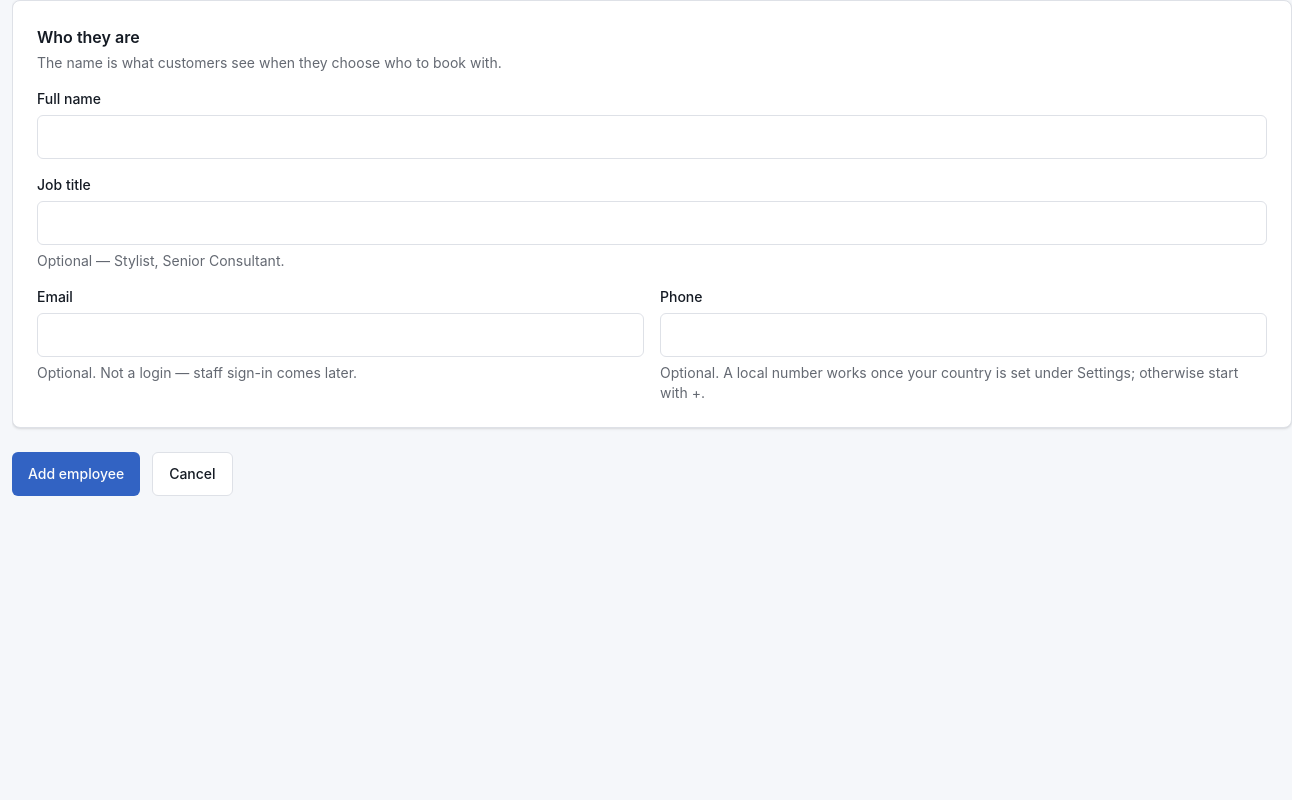
Test: EmployeeForm, refused › lets the owner try again rather than leaving the button spinning
Type "Nino Beridze" into the field labelled "Full name" at (652, 137), box [37,115,1267,159]
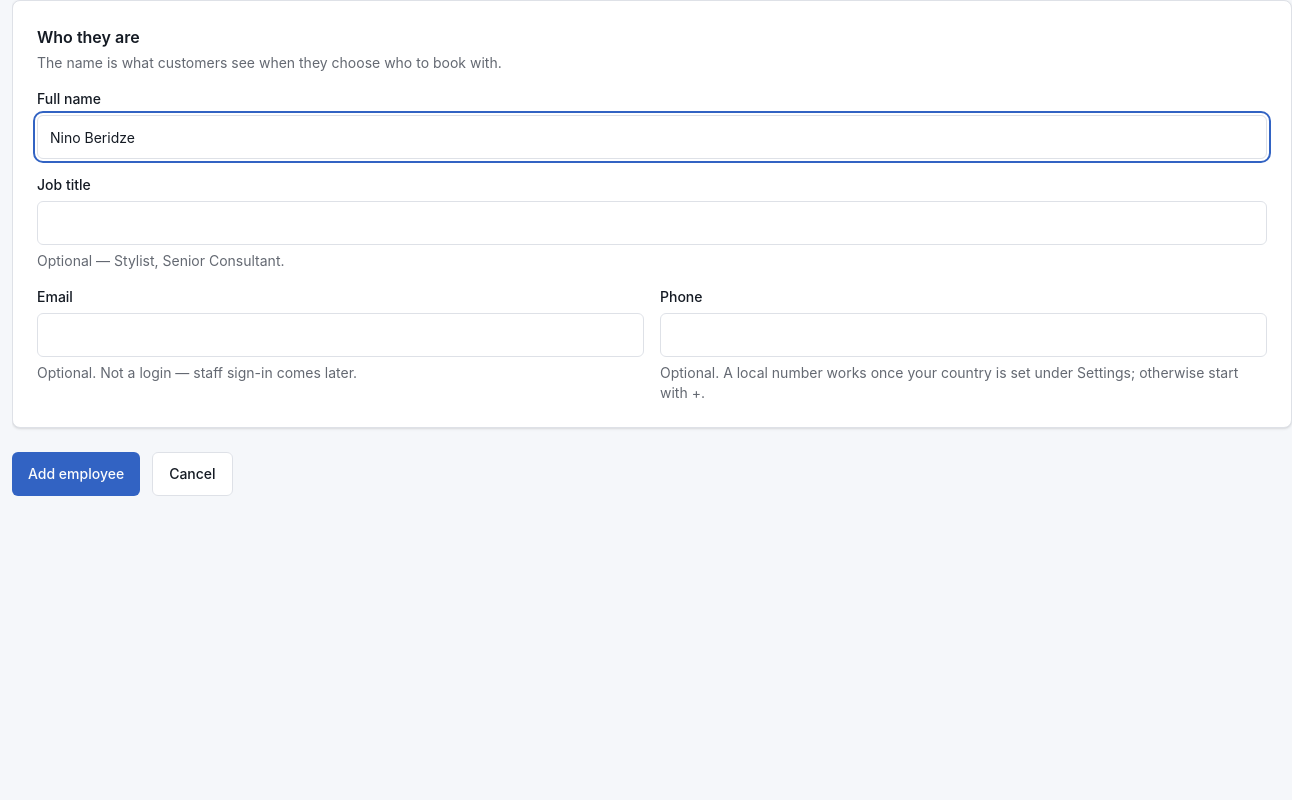
Click the button "Add employee" at (76, 474), box [12,452,140,496]
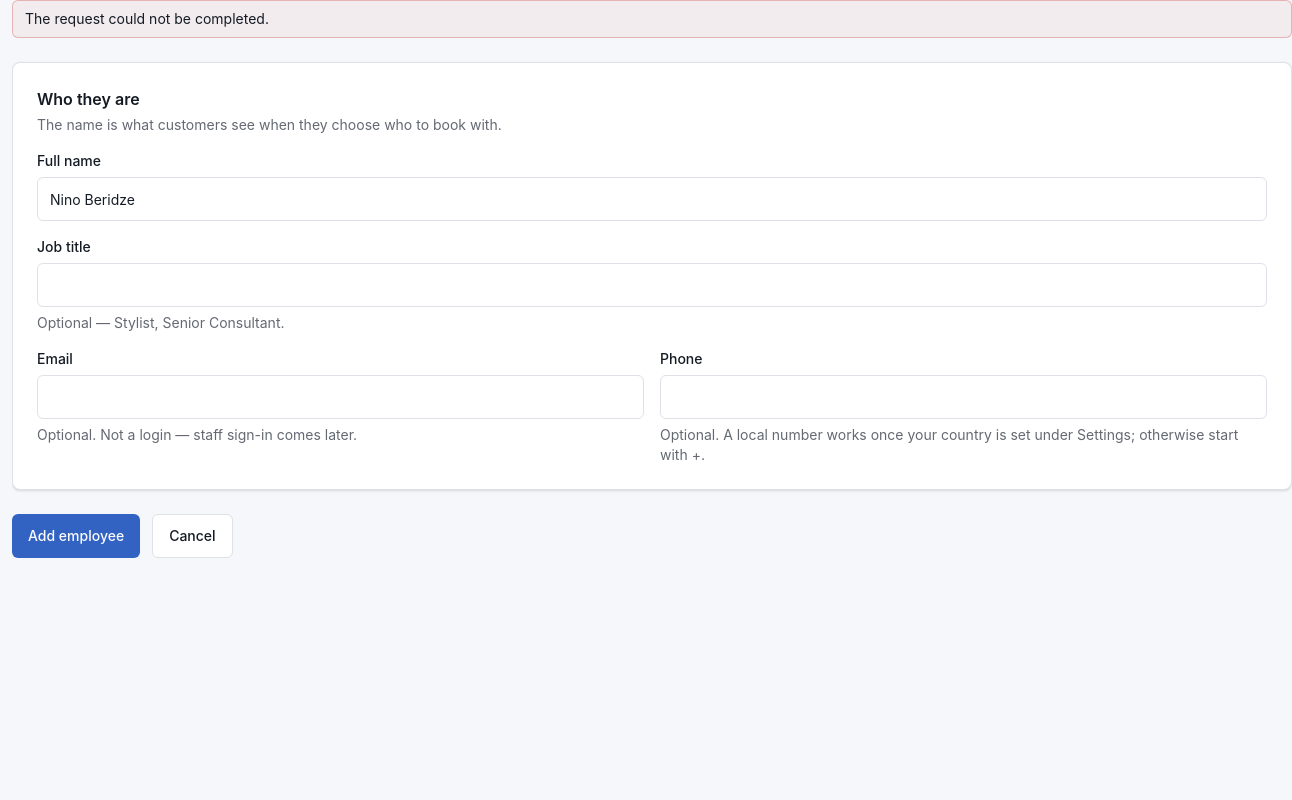
Expected: the button "Add employee" is enabled, [12,514,140,558]
Now the message "The request could not be completed." is shown, box [12,0,1291,38]
